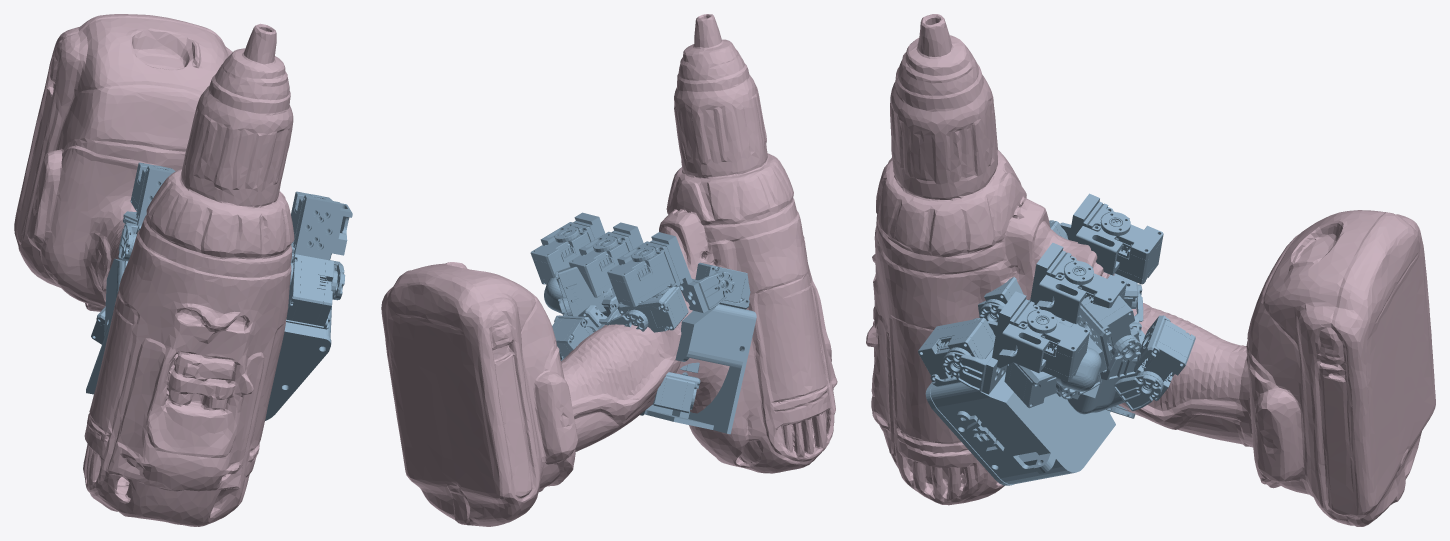
The picture shows the model from 3 angles, left to right: view 1: azimuth 30°, elevation 25°; view 2: azimuth 150°, elevation 25°; view 3: azimuth 270°, elevation 25°; orthographic projection. The views are drawn at different scales.
Parts seen in each view (by area): view 1: obj_mesh_grasp_90.obj, world; view 2: obj_mesh_grasp_90.obj, world; view 3: obj_mesh_grasp_90.obj, world.
Part boxes in pixels (bbox=[...]): obj_mesh_grasp_90.obj: bbox=[14, 14, 294, 526]; world: bbox=[86, 162, 352, 420]; obj_mesh_grasp_90.obj: bbox=[381, 14, 837, 526]; world: bbox=[530, 212, 756, 434]; obj_mesh_grasp_90.obj: bbox=[866, 14, 1435, 526]; world: bbox=[918, 193, 1195, 485].
Bounding box in the file's own units: 0.2112 × 0.2992 × 0.3043.
